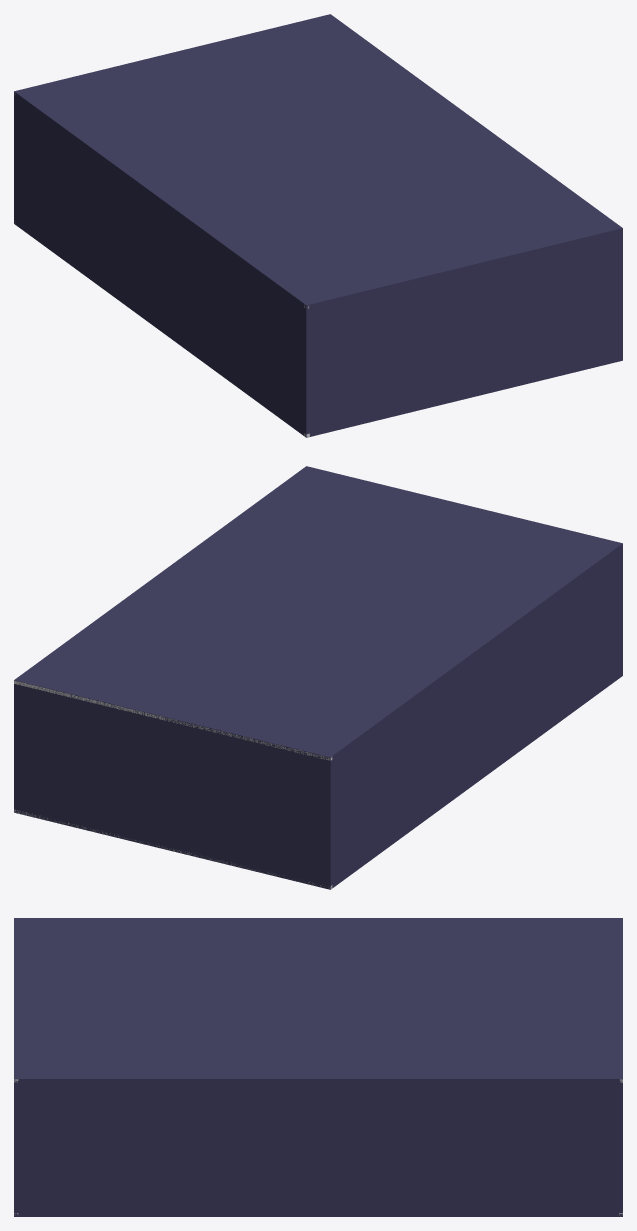
The model's file is shooting-range.gltf.
3 renders of one model, top to bottom at view 1: azimuth 30°, elevation 25°; view 2: azimuth 150°, elevation 25°; view 3: azimuth 270°, elevation 25°, orthographic. The views are drawn at different scales.
Parts seen in each view (by area): view 1: Ceiling, Wall Front, Wall Left; view 2: Ceiling, Wall Back, Wall Left, Cube.007; view 3: Ceiling, Wall Right.
Boxes of the visible parts, x1,y1,x2,y2 form: Ceiling: [14, 14, 622, 305]; Wall Front: [306, 228, 622, 437]; Wall Left: [14, 91, 306, 437]; Ceiling: [14, 466, 622, 757]; Wall Back: [14, 680, 330, 889]; Wall Left: [330, 543, 622, 889]; Cube.007: [14, 680, 332, 760]; Ceiling: [14, 918, 622, 1078]; Wall Right: [14, 1079, 622, 1216].
Size of the model in its own units: 50 by 20 by 80.
